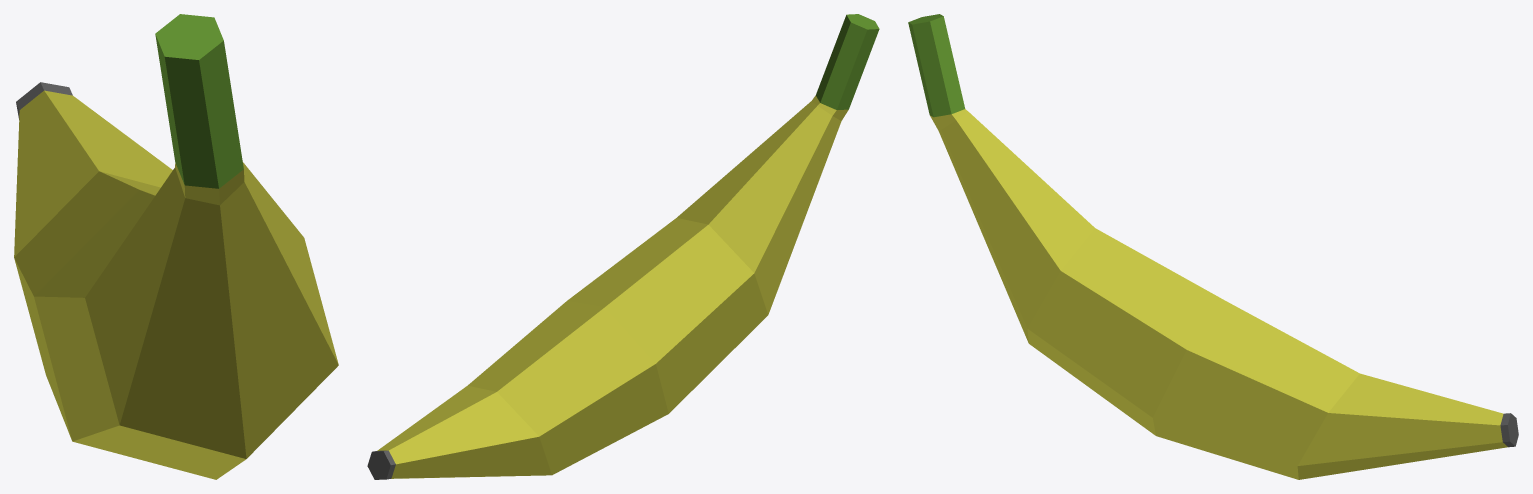
The model's file is banana.fbx.
3 views of the same model, side by side, from view 1: azimuth 30°, elevation 25°; view 2: azimuth 150°, elevation 25°; view 3: azimuth 270°, elevation 25° (orthographic). The views are drawn at different scales.
Visible parts, largest first — view 1: Banana; view 2: Banana; view 3: Banana.
Part boxes in pixels (x1,y1,x2,y2): Banana: (14,14,338,479); Banana: (367,14,879,479); Banana: (908,14,1518,479).
Bounding box in the file's own units: 105 × 156 × 226.
